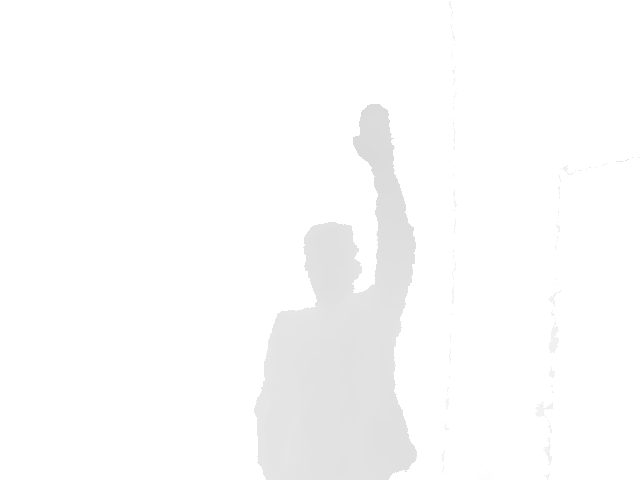hand: (351, 101, 396, 169)
head: (303, 221, 363, 300)
person: (252, 102, 419, 480)
